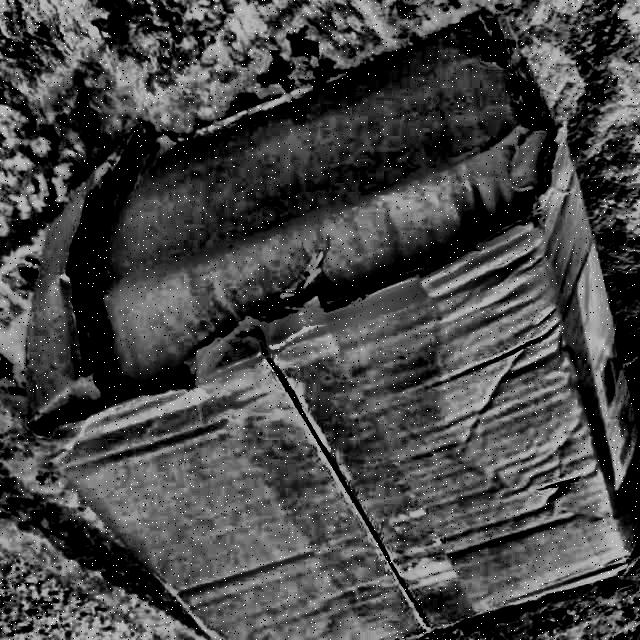box: (47, 14, 640, 640)
hole: (49, 149, 203, 439)
